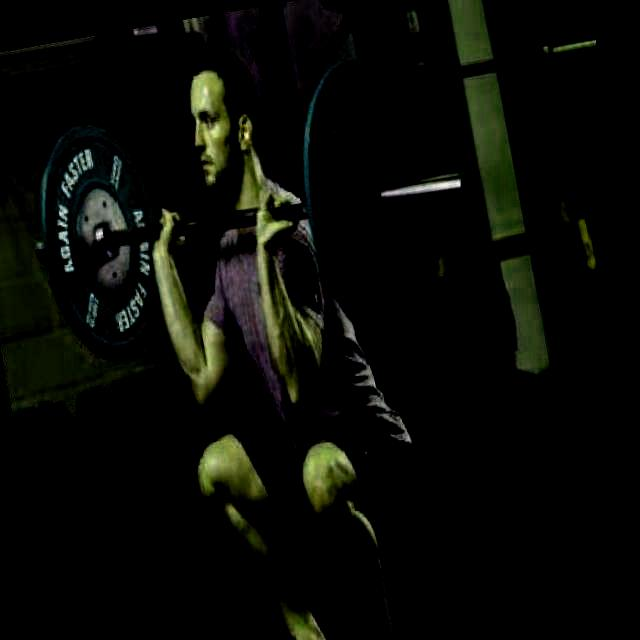barbell: (277, 37, 472, 357)
